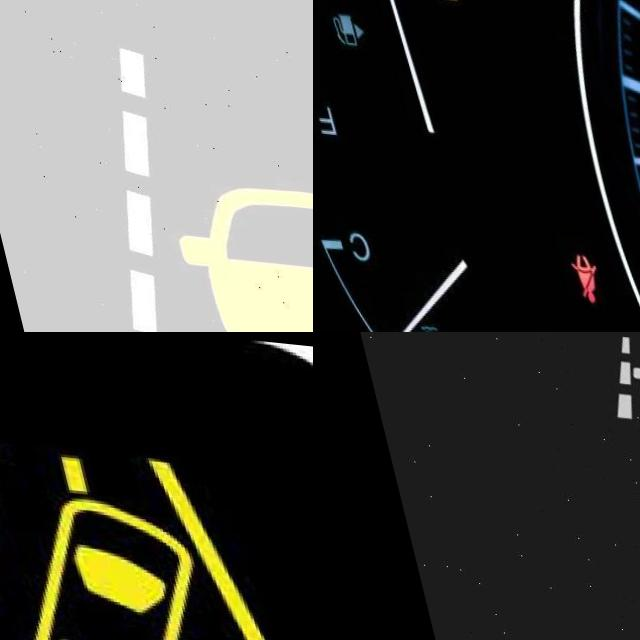Seat Belt: (553, 248, 583, 296)
